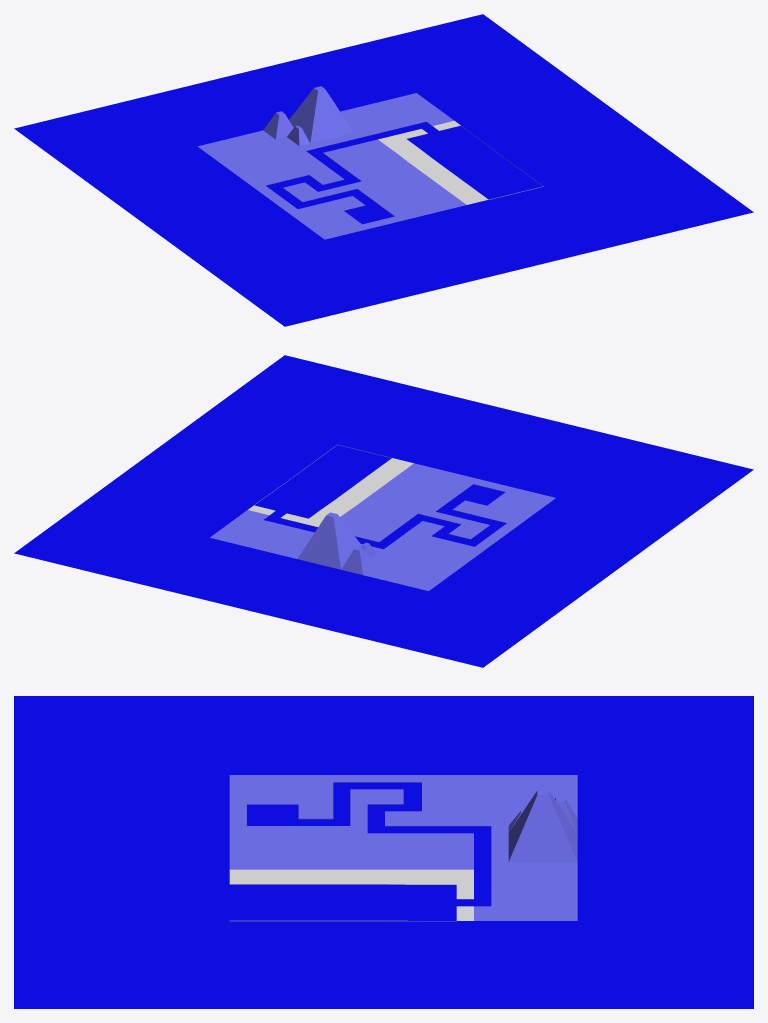
Rendered from world map.fbx.
The picture shows the model from 3 angles, top to bottom: view 1: azimuth 30°, elevation 25°; view 2: azimuth 150°, elevation 25°; view 3: azimuth 270°, elevation 25°; orthographic projection. The views are drawn at different scales.
Parts seen in each view (by area): view 1: water1, surface; view 2: water1, surface; view 3: water1, surface.
Boxes of the visible parts, x1=… form: water1: x1=14, y1=14, x2=753, y2=326; surface: x1=197, y1=86, x2=543, y2=239; water1: x1=14, y1=355, x2=753, y2=667; surface: x1=210, y1=444, x2=555, y2=590; water1: x1=14, y1=696, x2=753, y2=1008; surface: x1=229, y1=775, x2=577, y2=921.
Size of the model in its own units: 4.28 by 0.6893 by 4.28.
